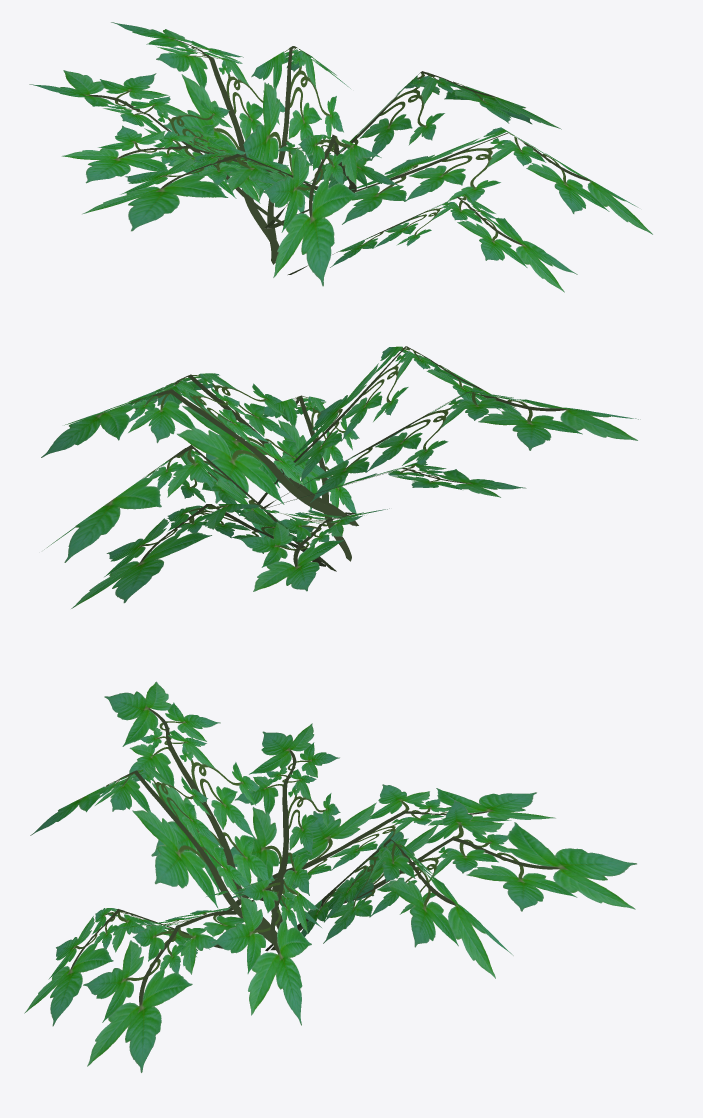
Rendered from Poison_Ivy.fbx.
The picture shows the model from 3 angles, top to bottom: view 1: azimuth 30°, elevation 25°; view 2: azimuth 150°, elevation 25°; view 3: azimuth 270°, elevation 25°; orthographic projection.
Parts seen in each view (by area): view 1: Poison_Ivy; view 2: Poison_Ivy; view 3: Poison_Ivy.
Boxes of the visible parts, x1,y1,x2,y2 form: Poison_Ivy: (29,22,652,292); Poison_Ivy: (41,346,640,608); Poison_Ivy: (24,681,636,1072).
Bounding box in the file's own units: 230 × 64.92 × 223.
Materials: 1 (1 with a texture image).
